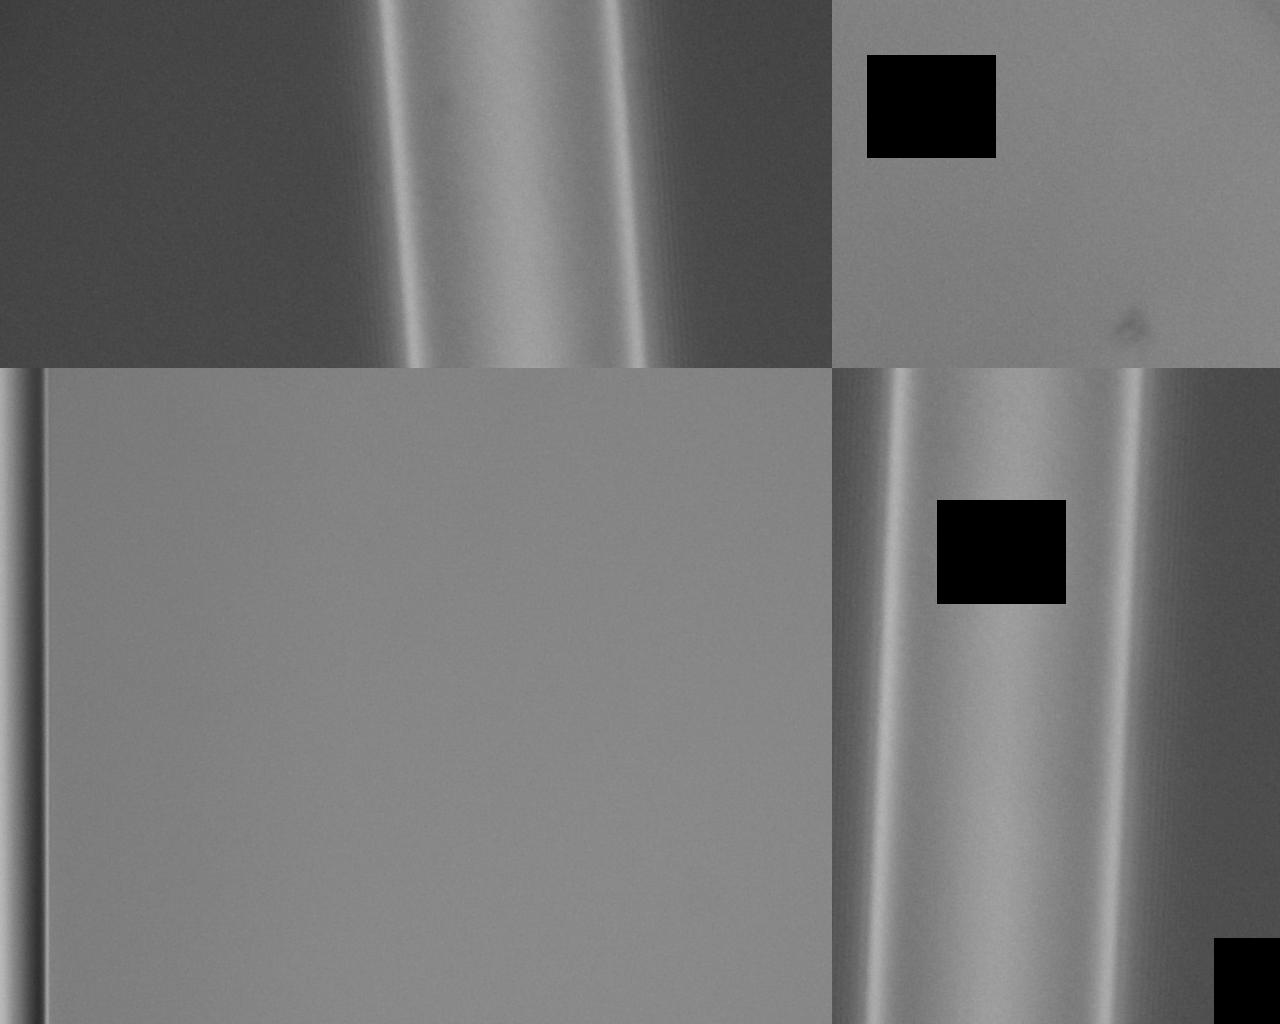fiber: (48, 348, 238, 1024), (857, 231, 1280, 348)
